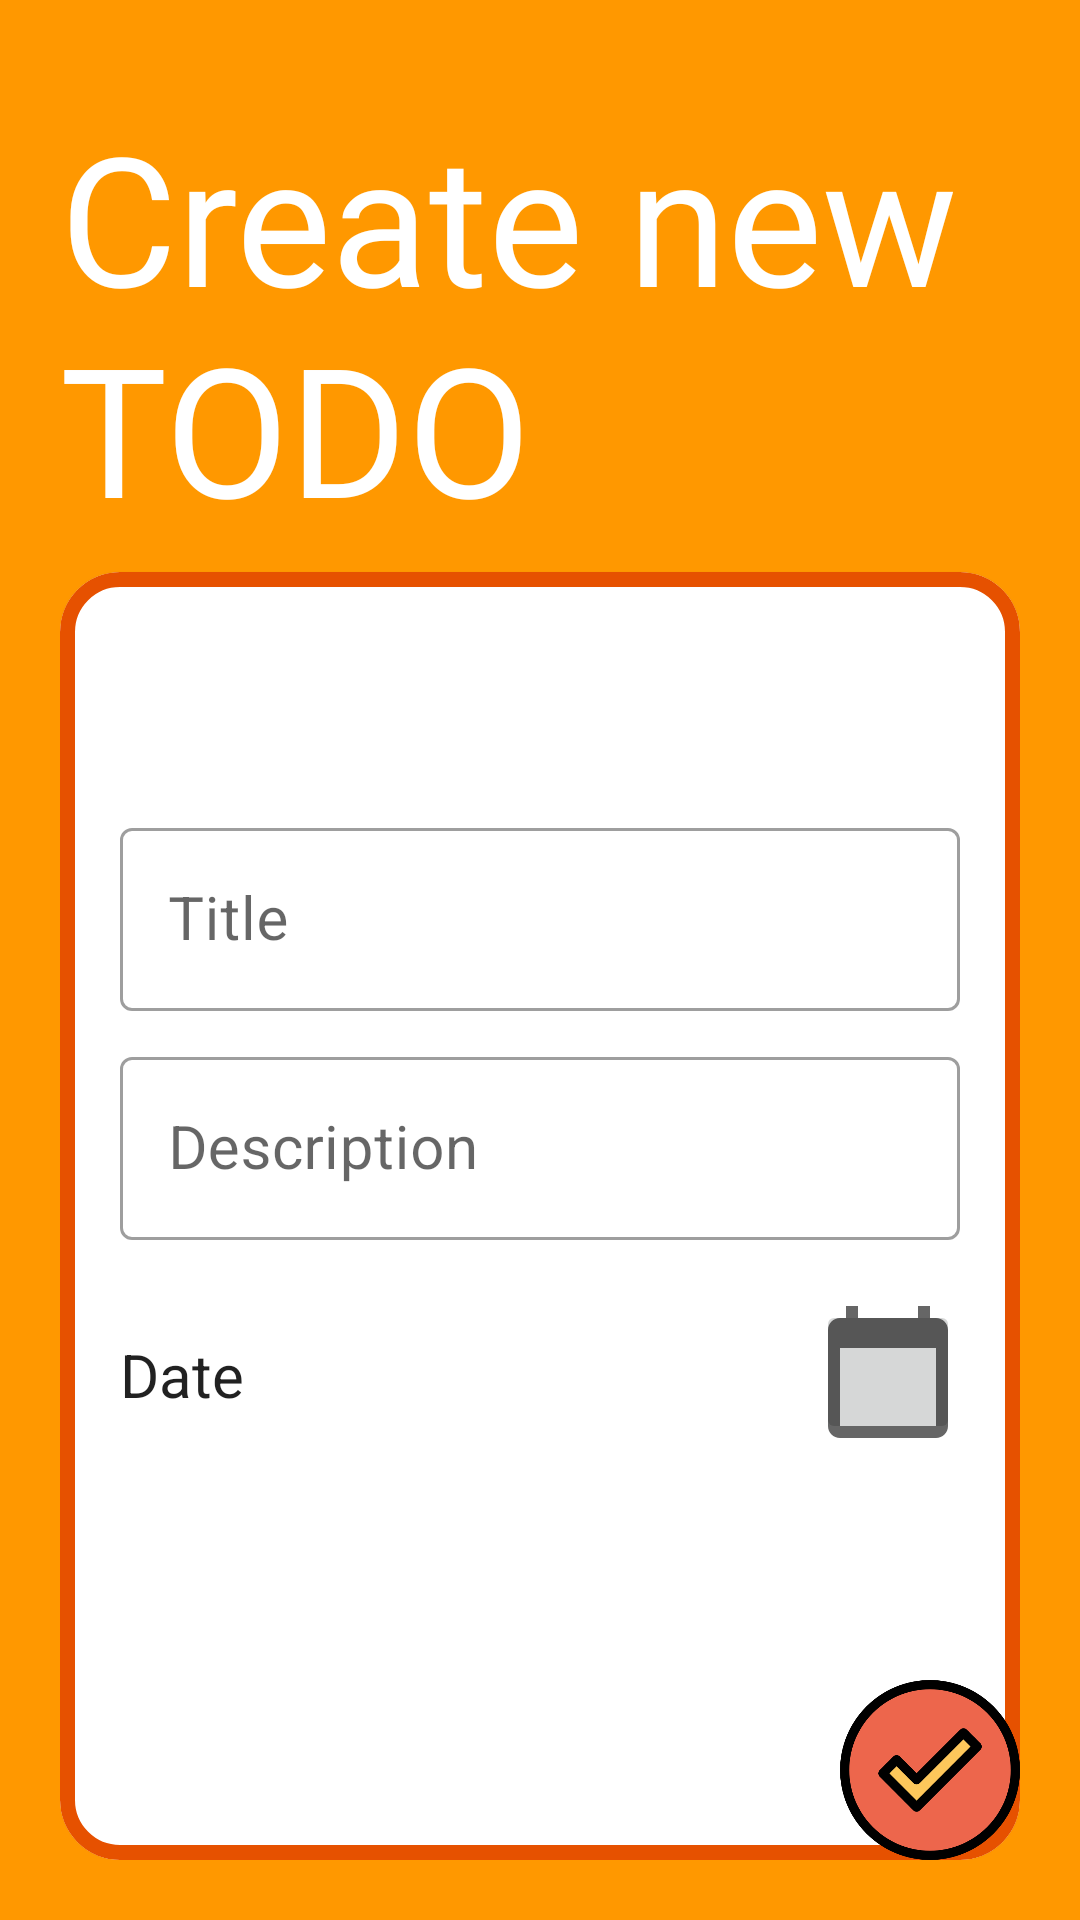

Named icons in this screenshot (1080px x 1920px) and their centers, point (x, y):
calendar today: point (888, 1372)
check: point (930, 1770)
